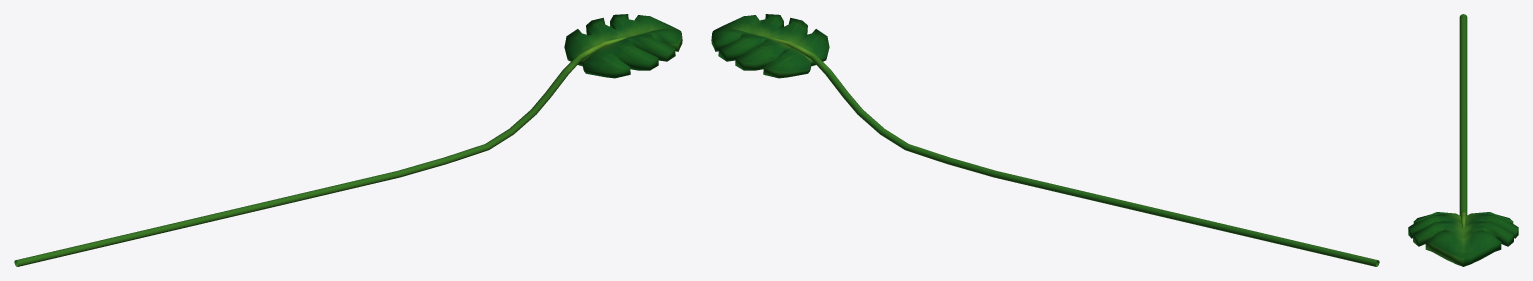
The model's file is CostelaDeAdaoCratera.fbx.
The picture shows the model from 3 angles, left to right: view 1: azimuth 30°, elevation 25°; view 2: azimuth 150°, elevation 25°; view 3: azimuth 270°, elevation 25°; orthographic projection. The views are drawn at different scales.
Parts seen in each view (by area): view 1: CostelaDeAdao.001; view 2: CostelaDeAdao.001; view 3: CostelaDeAdao.001.
Part boxes in pixels (bbox=[...]): CostelaDeAdao.001: bbox=[14, 14, 682, 266]; CostelaDeAdao.001: bbox=[711, 14, 1379, 266]; CostelaDeAdao.001: bbox=[1408, 14, 1518, 266].
Size of the model in its own units: 836 by 110 by 126.
